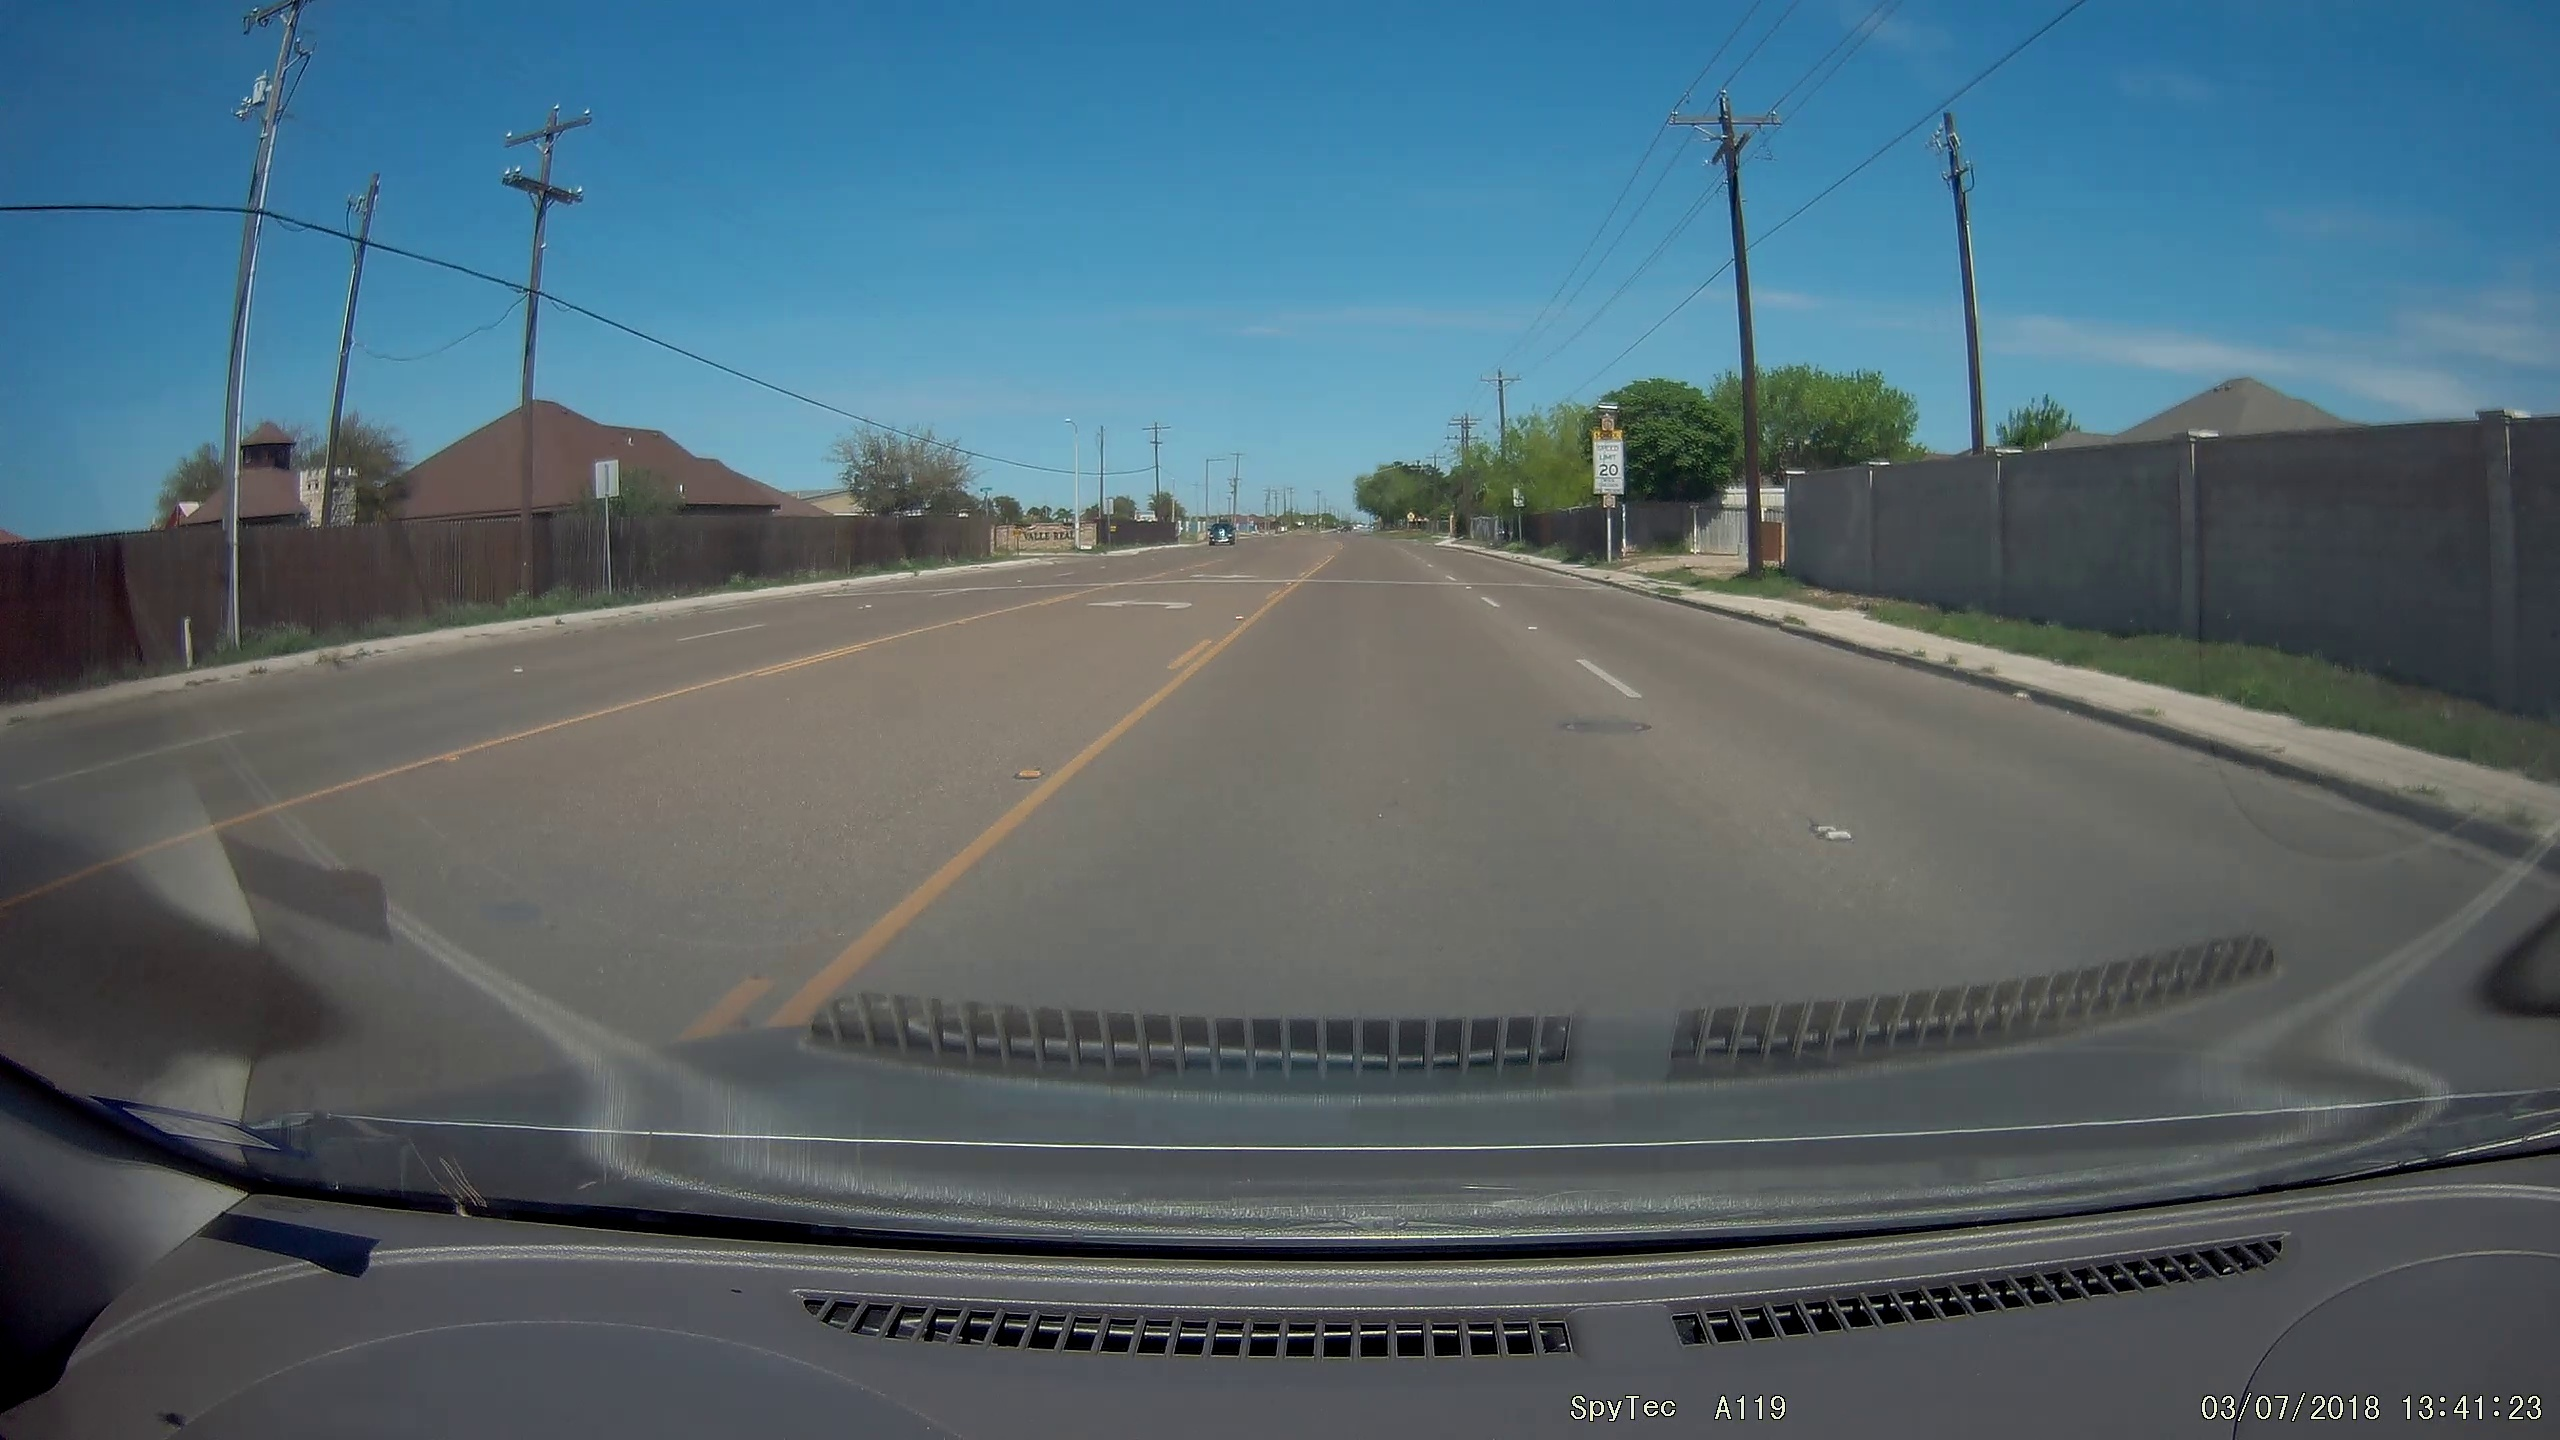manhole: (1533, 702, 1686, 751)
